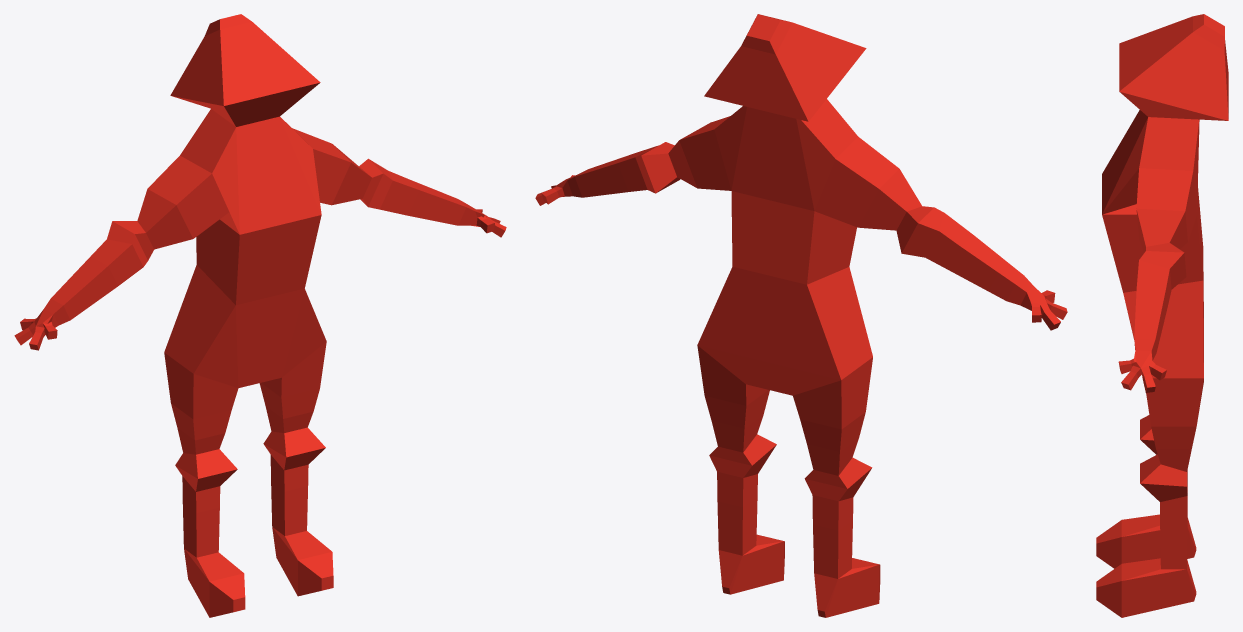
File: testmodel.fbx
The picture shows the model from 3 angles, left to right: view 1: azimuth 30°, elevation 25°; view 2: azimuth 150°, elevation 25°; view 3: azimuth 270°, elevation 25°; orthographic projection. The views are drawn at different scales.
Parts seen in each view (by area): view 1: Plane; view 2: Plane; view 3: Plane.
Part boxes in pixels (x1,y1,x2,y2): Plane: [14, 14, 506, 617]; Plane: [535, 14, 1067, 617]; Plane: [1096, 14, 1228, 617].
Size of the model in its own units: 515 by 566 by 119.
